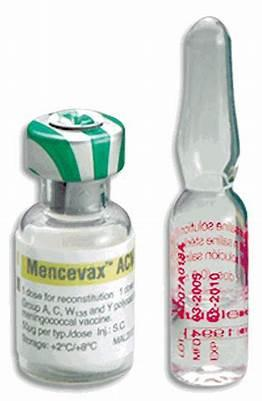Syringe: (9, 96, 137, 393), (162, 14, 250, 401)
